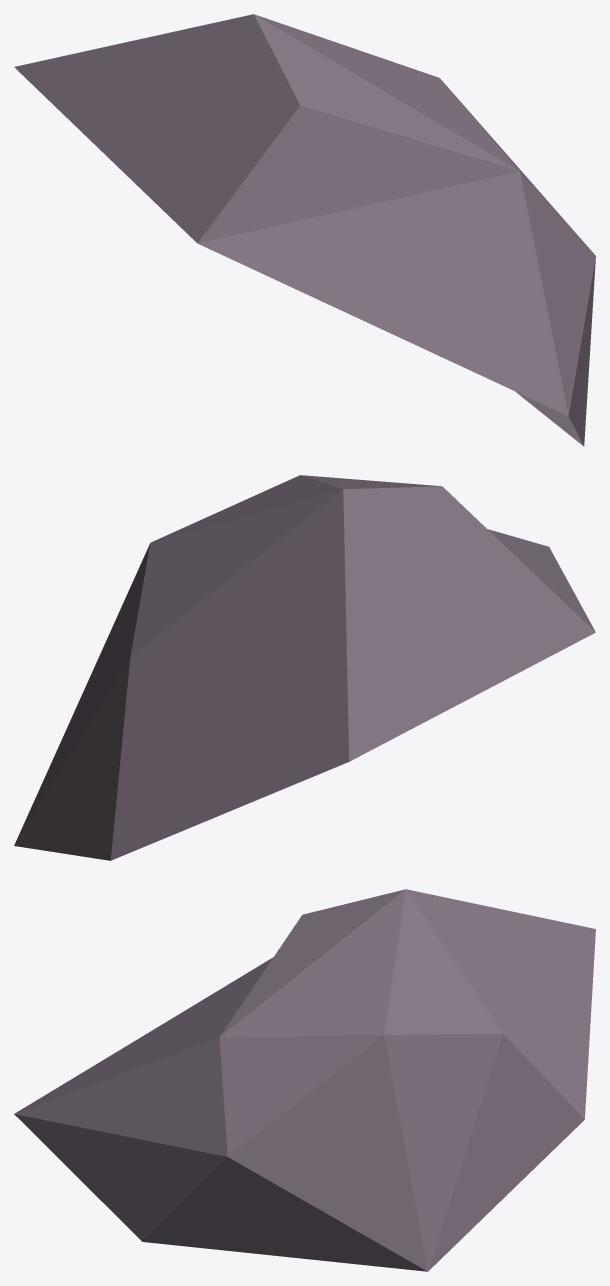
The model's file is Small_stone_v07.fbx.
3 views of the same model, one above another, from view 1: azimuth 30°, elevation 25°; view 2: azimuth 150°, elevation 25°; view 3: azimuth 270°, elevation 25° (orthographic). The views are drawn at different scales.
Parts seen in each view (by area): view 1: Small_stone_v07; view 2: Small_stone_v07; view 3: Small_stone_v07.
Boxes of the visible parts, x1,y1,x2,y2 form: Small_stone_v07: [14, 14, 595, 446]; Small_stone_v07: [14, 475, 595, 860]; Small_stone_v07: [14, 889, 595, 1271].
Size of the model in its own units: 9.15 by 7.94 by 14.61.
1 material, 1 textured.
